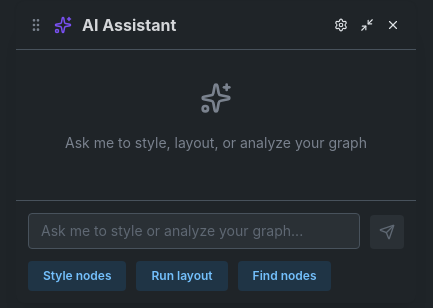
Test case: AiChatDialog › message submission › displays assistant response after execution
Step 1. Type "Make nodes blue" into the text box with placeholder "Ask me to style or analyze your graph..." → (194, 231), box [28,213,360,249]
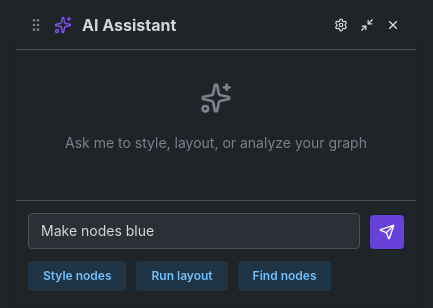
Step 2. Click the button named "send" → (387, 232), box [370,215,404,249]
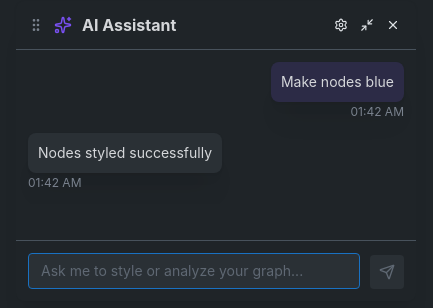
Check: the text "Nodes styled successfully" is shown, box [38,143,212,163]
